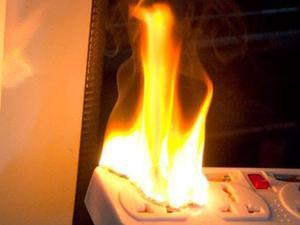fire: (95, 1, 230, 207)
